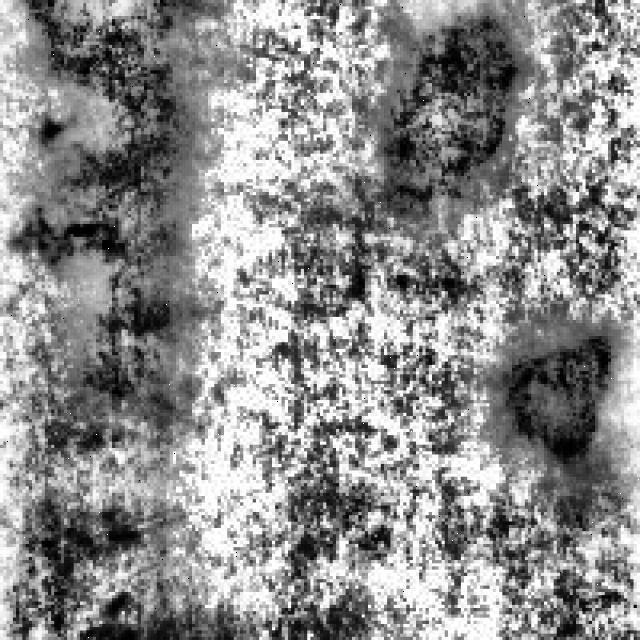Scratches: (22, 0, 202, 333), (374, 0, 534, 224), (484, 320, 630, 477), (80, 214, 192, 416)
